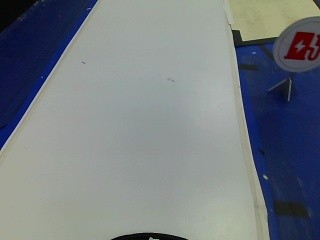battery: (275, 19, 320, 70)
